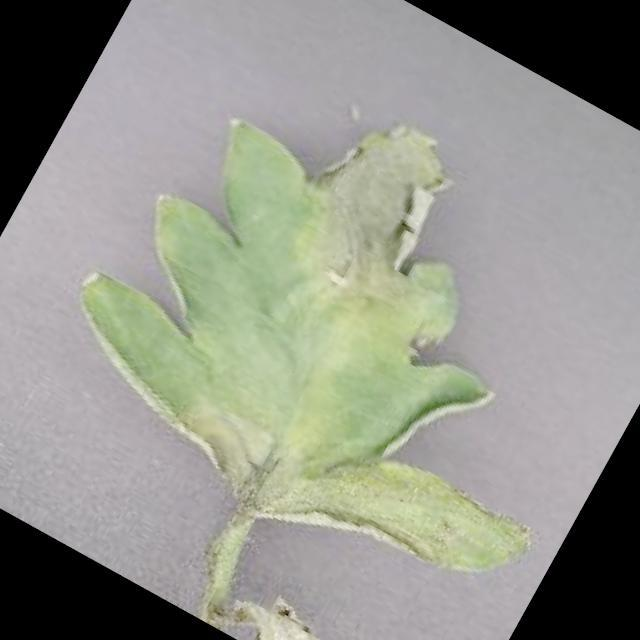Tomato late blight leaf: (21, 11, 640, 640)
